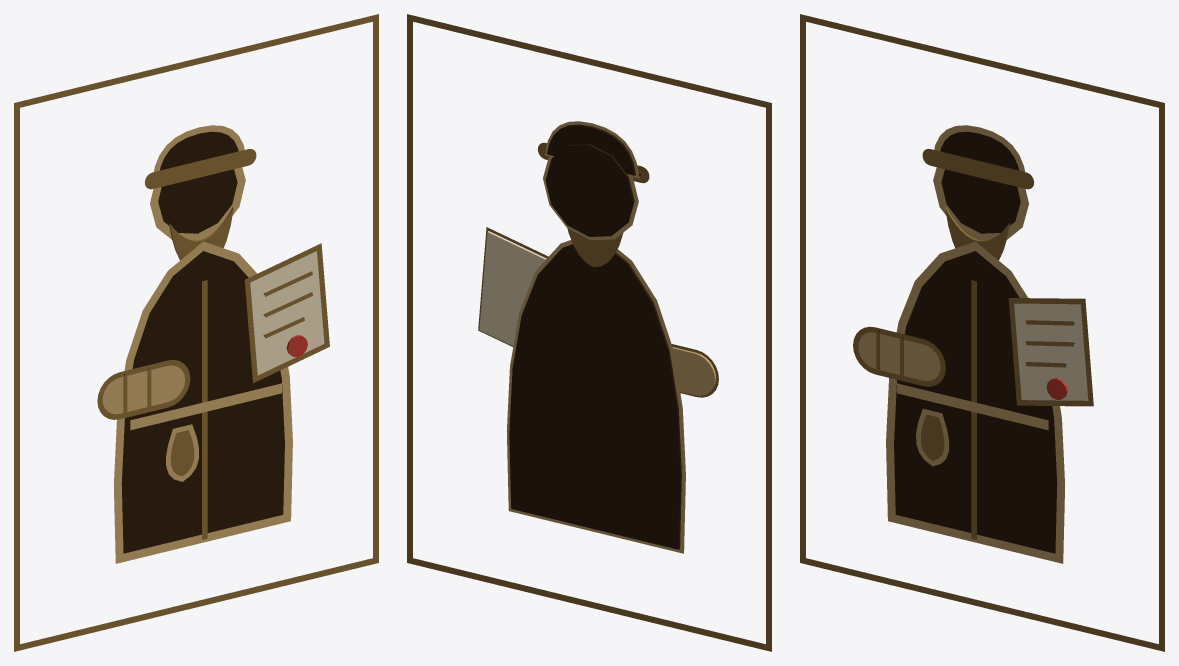
Rendered from npc-kupets-a.glb.
The picture shows the model from 3 angles, left to right: view 1: azimuth 30°, elevation 25°; view 2: azimuth 150°, elevation 25°; view 3: azimuth 330°, elevation 25°; orthographic projection.
Visible parts, largest first — view 1: npc-kupets-a; view 2: npc-kupets-a; view 3: npc-kupets-a.
Boxes of the visible parts, x1=… form: npc-kupets-a: x1=14, y1=14, x2=378, y2=651; npc-kupets-a: x1=407, y1=14, x2=771, y2=651; npc-kupets-a: x1=800, y1=14, x2=1164, y2=651.
Size of the model in its own units: 1.14 by 1.64 by 0.0979.
